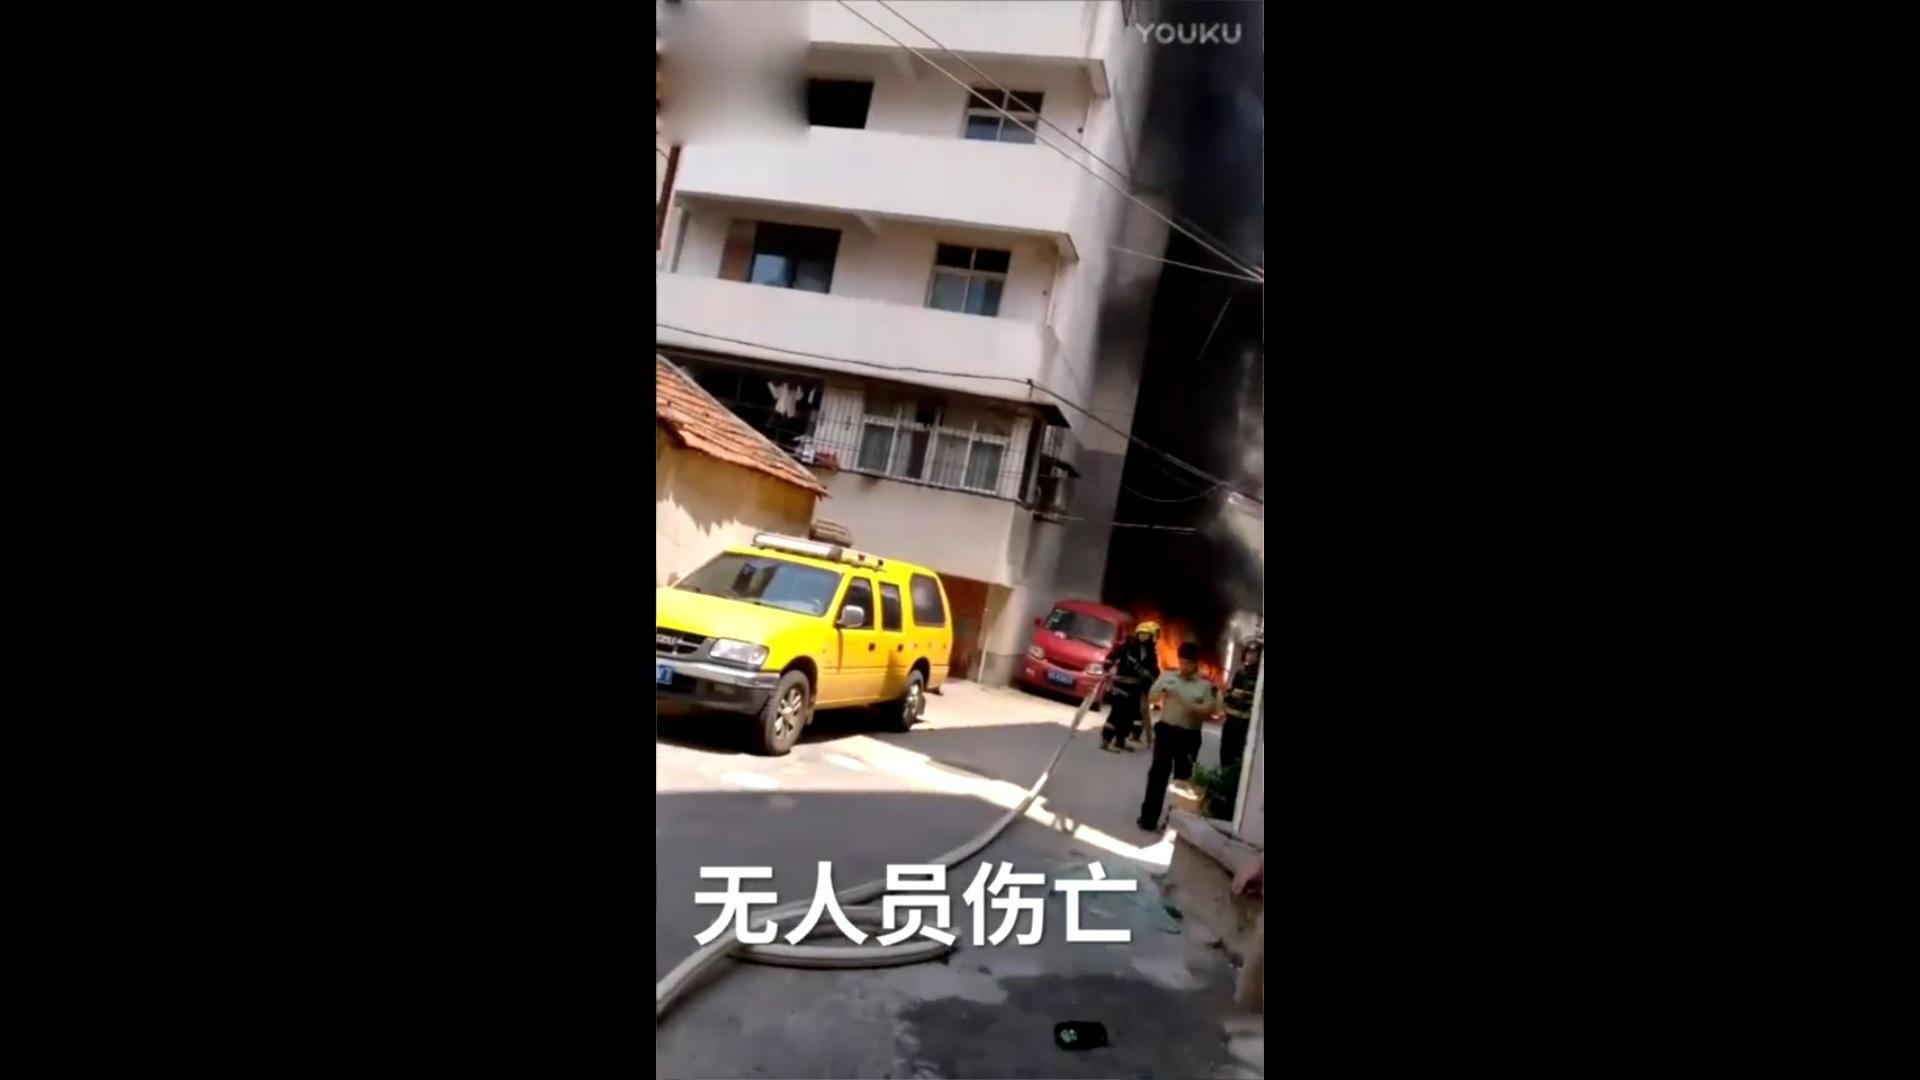fire: (1149, 620, 1208, 676)
